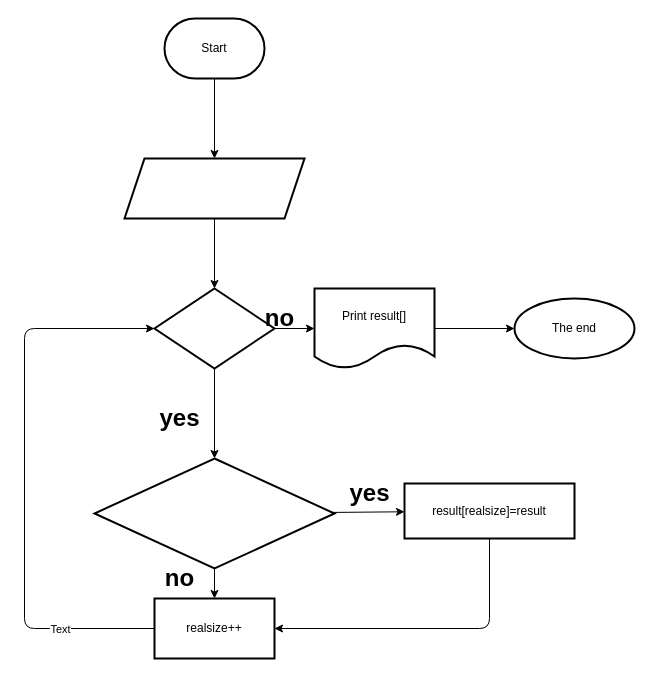
Image size: 653x676. Some labels were removed from this diagram. Each missing label, with the centre of its shape:
array = ["n", "65", "hey", "-957","party", "1" ]: point 214,188
result[realsize]=value: point 214,513
value.Lenght<=3: point 214,328
